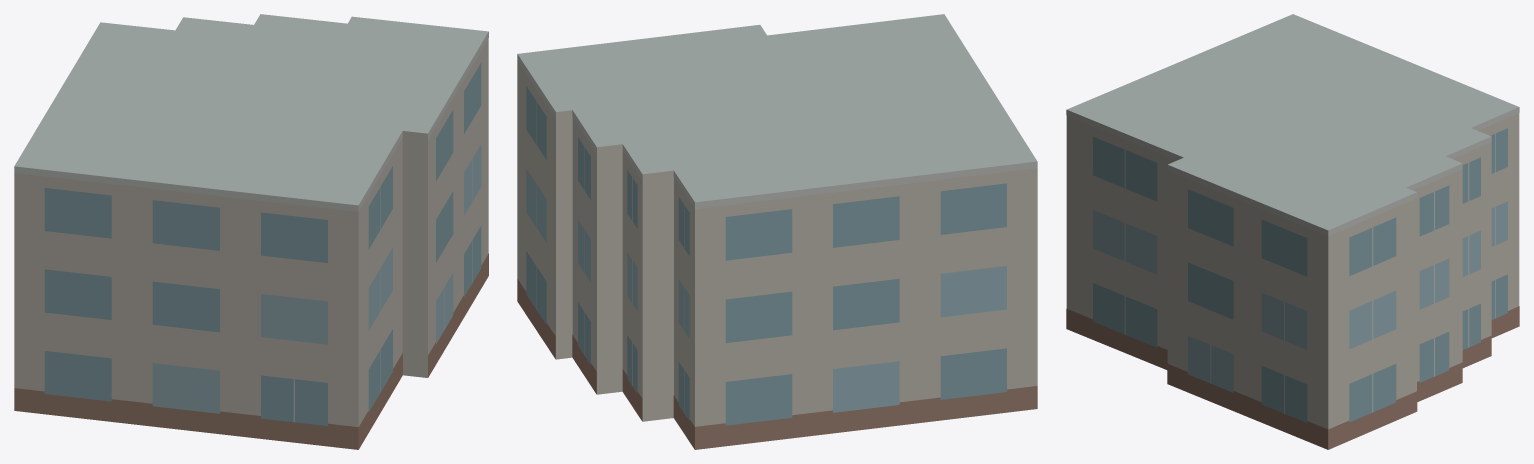
The model's file is survey-upis-32985651.glb.
3 renders of one model, left to right at view 1: azimuth 30°, elevation 25°; view 2: azimuth 150°, elevation 25°; view 3: azimuth 270°, elevation 25°, orthographic. The views are drawn at different scales.
Parts seen in each view (by area): view 1: survey-upis-32985651.tmp; view 2: survey-upis-32985651.tmp; view 3: survey-upis-32985651.tmp.
Boxes of the visible parts, x1,y1,x2,y2 form: survey-upis-32985651.tmp: (14, 14, 488, 449); survey-upis-32985651.tmp: (517, 14, 1037, 449); survey-upis-32985651.tmp: (1066, 14, 1519, 449).
Size of the model in its own units: 19.36 by 9.15 by 17.12.
